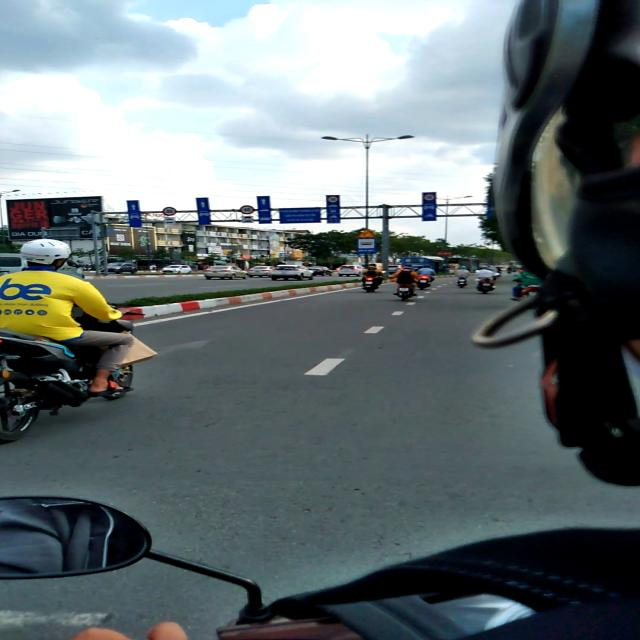Ben xe buyt: (357, 239, 376, 253)
Nguy hiem: (358, 230, 375, 238)
Toc do toi da: (420, 192, 437, 202), (239, 205, 255, 215), (162, 207, 177, 216), (327, 195, 339, 203)
